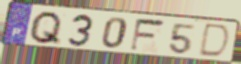0: (100, 17, 129, 51)
3: (66, 14, 95, 48)
5: (168, 23, 197, 55)
D: (196, 22, 232, 60)
F: (128, 17, 167, 54)
Q: (27, 10, 64, 47)
